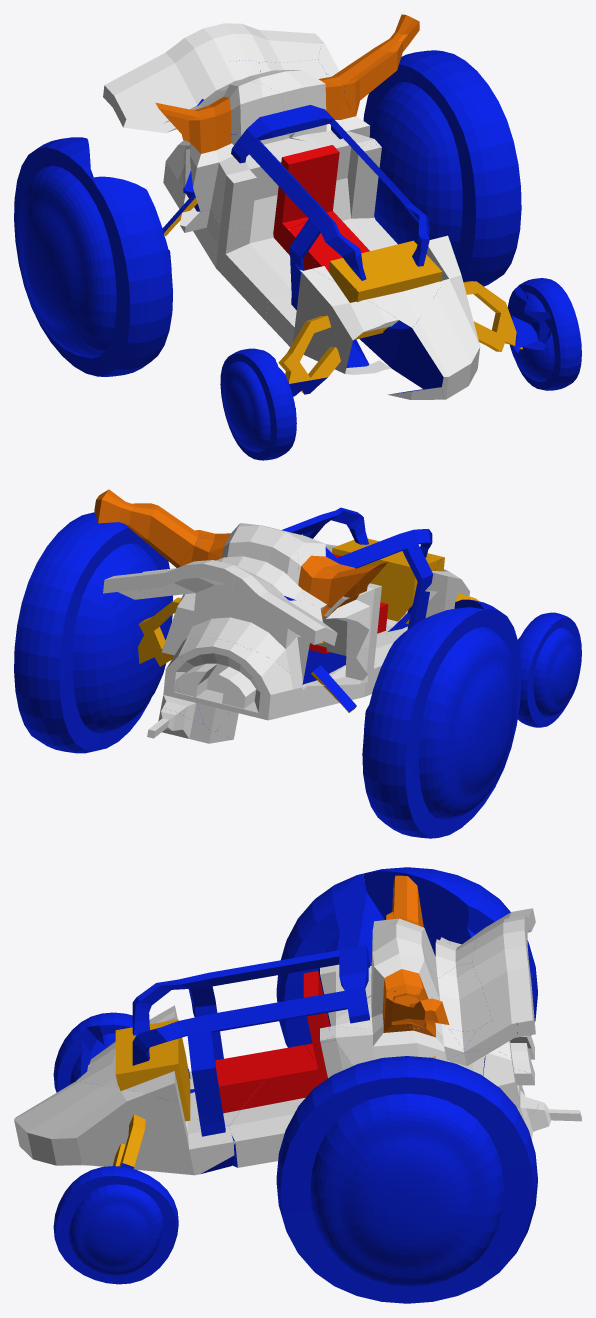
File: Dune Buggy4Death.fbx
The picture shows the model from 3 angles, top to bottom: view 1: azimuth 30°, elevation 25°; view 2: azimuth 150°, elevation 25°; view 3: azimuth 270°, elevation 25°; orthographic projection. The views are drawn at different scales.
Parts seen in each view (by area): view 1: Cube.005_cell.044, Cube.005_cell.105, Cube.005_cell, Cube.005_cell.077, Cube.005_cell.093, Cube.005_cell.032, Cube.005_cell.021, Cube.005_cell.005, Cube.005_cell.130, Cube.005_cell.068, Cube.005_cell.078, Cube.005_cell.081 (+41 smaller); view 2: Cube.005_cell.043, Cube.005_cell.042, Cube.005_cell.080, Cube.005_cell.068, Cube.005_cell.116, Cube.005_cell.003, Cube.005_cell.126, Cube.005_cell.129, Cube.005_cell.069, Cube.005_cell.032, Cube.005_cell.115, Cube.005_cell.102 (+34 smaller); view 3: Cube.005_cell, Cube.005_cell.080, Cube.005_cell.078, Cube.005_cell.043, Cube.005_cell.108, Cube.005_cell.013, Cube.005_cell.046, Cube.005_cell.088, Cube.005_cell.044, Cube.005_cell.081, Cube.005_cell.068, Cube.005_cell.035 (+45 smaller).
Boxes of the visible parts, x1,y1,x2,y2 form: Cube.005_cell.044: [87, 176, 172, 324]; Cube.005_cell.105: [400, 77, 518, 173]; Cube.005_cell: [359, 259, 480, 399]; Cube.005_cell.077: [414, 165, 521, 266]; Cube.005_cell.093: [182, 134, 340, 231]; Cube.005_cell.032: [180, 192, 302, 320]; Cube.005_cell.021: [103, 35, 214, 133]; Cube.005_cell.005: [52, 193, 121, 319]; Cube.005_cell.130: [299, 269, 398, 374]; Cube.005_cell.068: [26, 137, 90, 231]; Cube.005_cell.078: [322, 141, 397, 250]; Cube.005_cell.081: [190, 23, 322, 66]; Cube.005_cell.043: [14, 604, 125, 748]; Cube.005_cell.042: [176, 637, 302, 732]; Cube.005_cell.080: [21, 513, 125, 624]; Cube.005_cell.068: [390, 607, 494, 711]; Cube.005_cell.116: [132, 545, 309, 684]; Cube.005_cell.003: [367, 648, 458, 729]; Cube.005_cell.126: [94, 489, 210, 567]; Cube.005_cell.129: [97, 596, 158, 701]; Cube.005_cell.069: [362, 705, 413, 817]; Cube.005_cell.032: [298, 634, 395, 712]; Cube.005_cell.115: [195, 523, 298, 584]; Cube.005_cell.102: [289, 532, 387, 610]; Cube.005_cell: [14, 1082, 234, 1175]; Cube.005_cell.080: [369, 1058, 518, 1144]; Cube.005_cell.078: [229, 1027, 352, 1167]; Cube.005_cell.043: [471, 1111, 537, 1266]; Cube.005_cell.108: [132, 998, 307, 1123]; Cube.005_cell.013: [401, 1193, 504, 1292]; Cube.005_cell.046: [403, 1137, 492, 1246]; Cube.005_cell.088: [285, 1208, 408, 1292]; Cube.005_cell.044: [276, 873, 366, 1002]; Cube.005_cell.081: [472, 916, 535, 1037]; Cube.005_cell.068: [363, 867, 488, 956]; Cube.005_cell.035: [286, 1070, 377, 1159].
Size of the model in its own units: 1781 by 992 by 1781.
